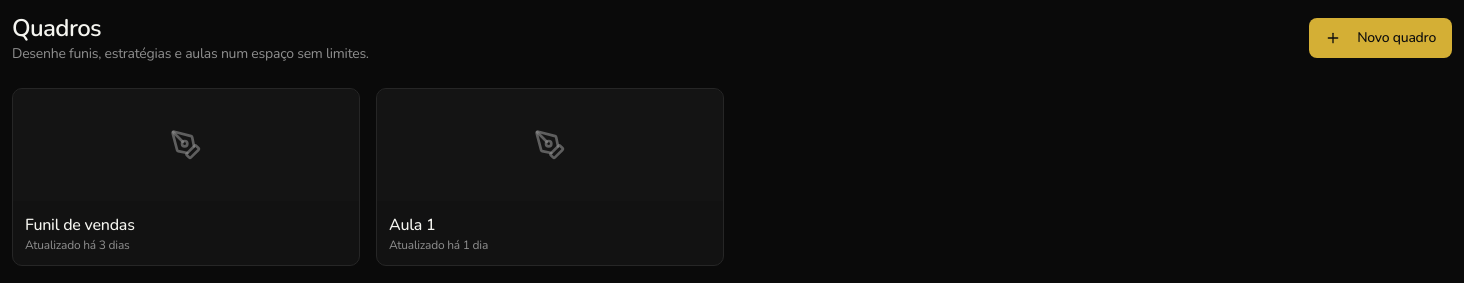
Test: Quadros › clicar no cartão abre o quadro
Click the text "Aula 1" at [412, 225], box [389,214,436,236]
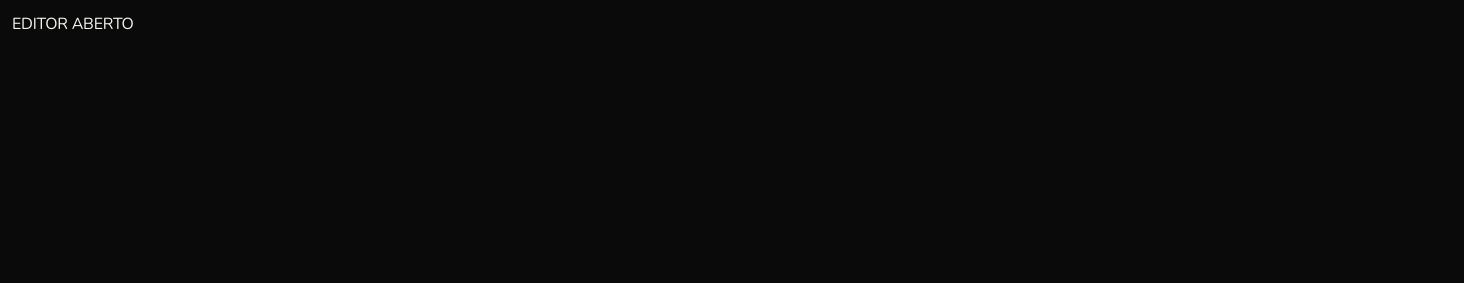
Expected: the text "EDITOR ABERTO" is shown, [12,13,134,35]
